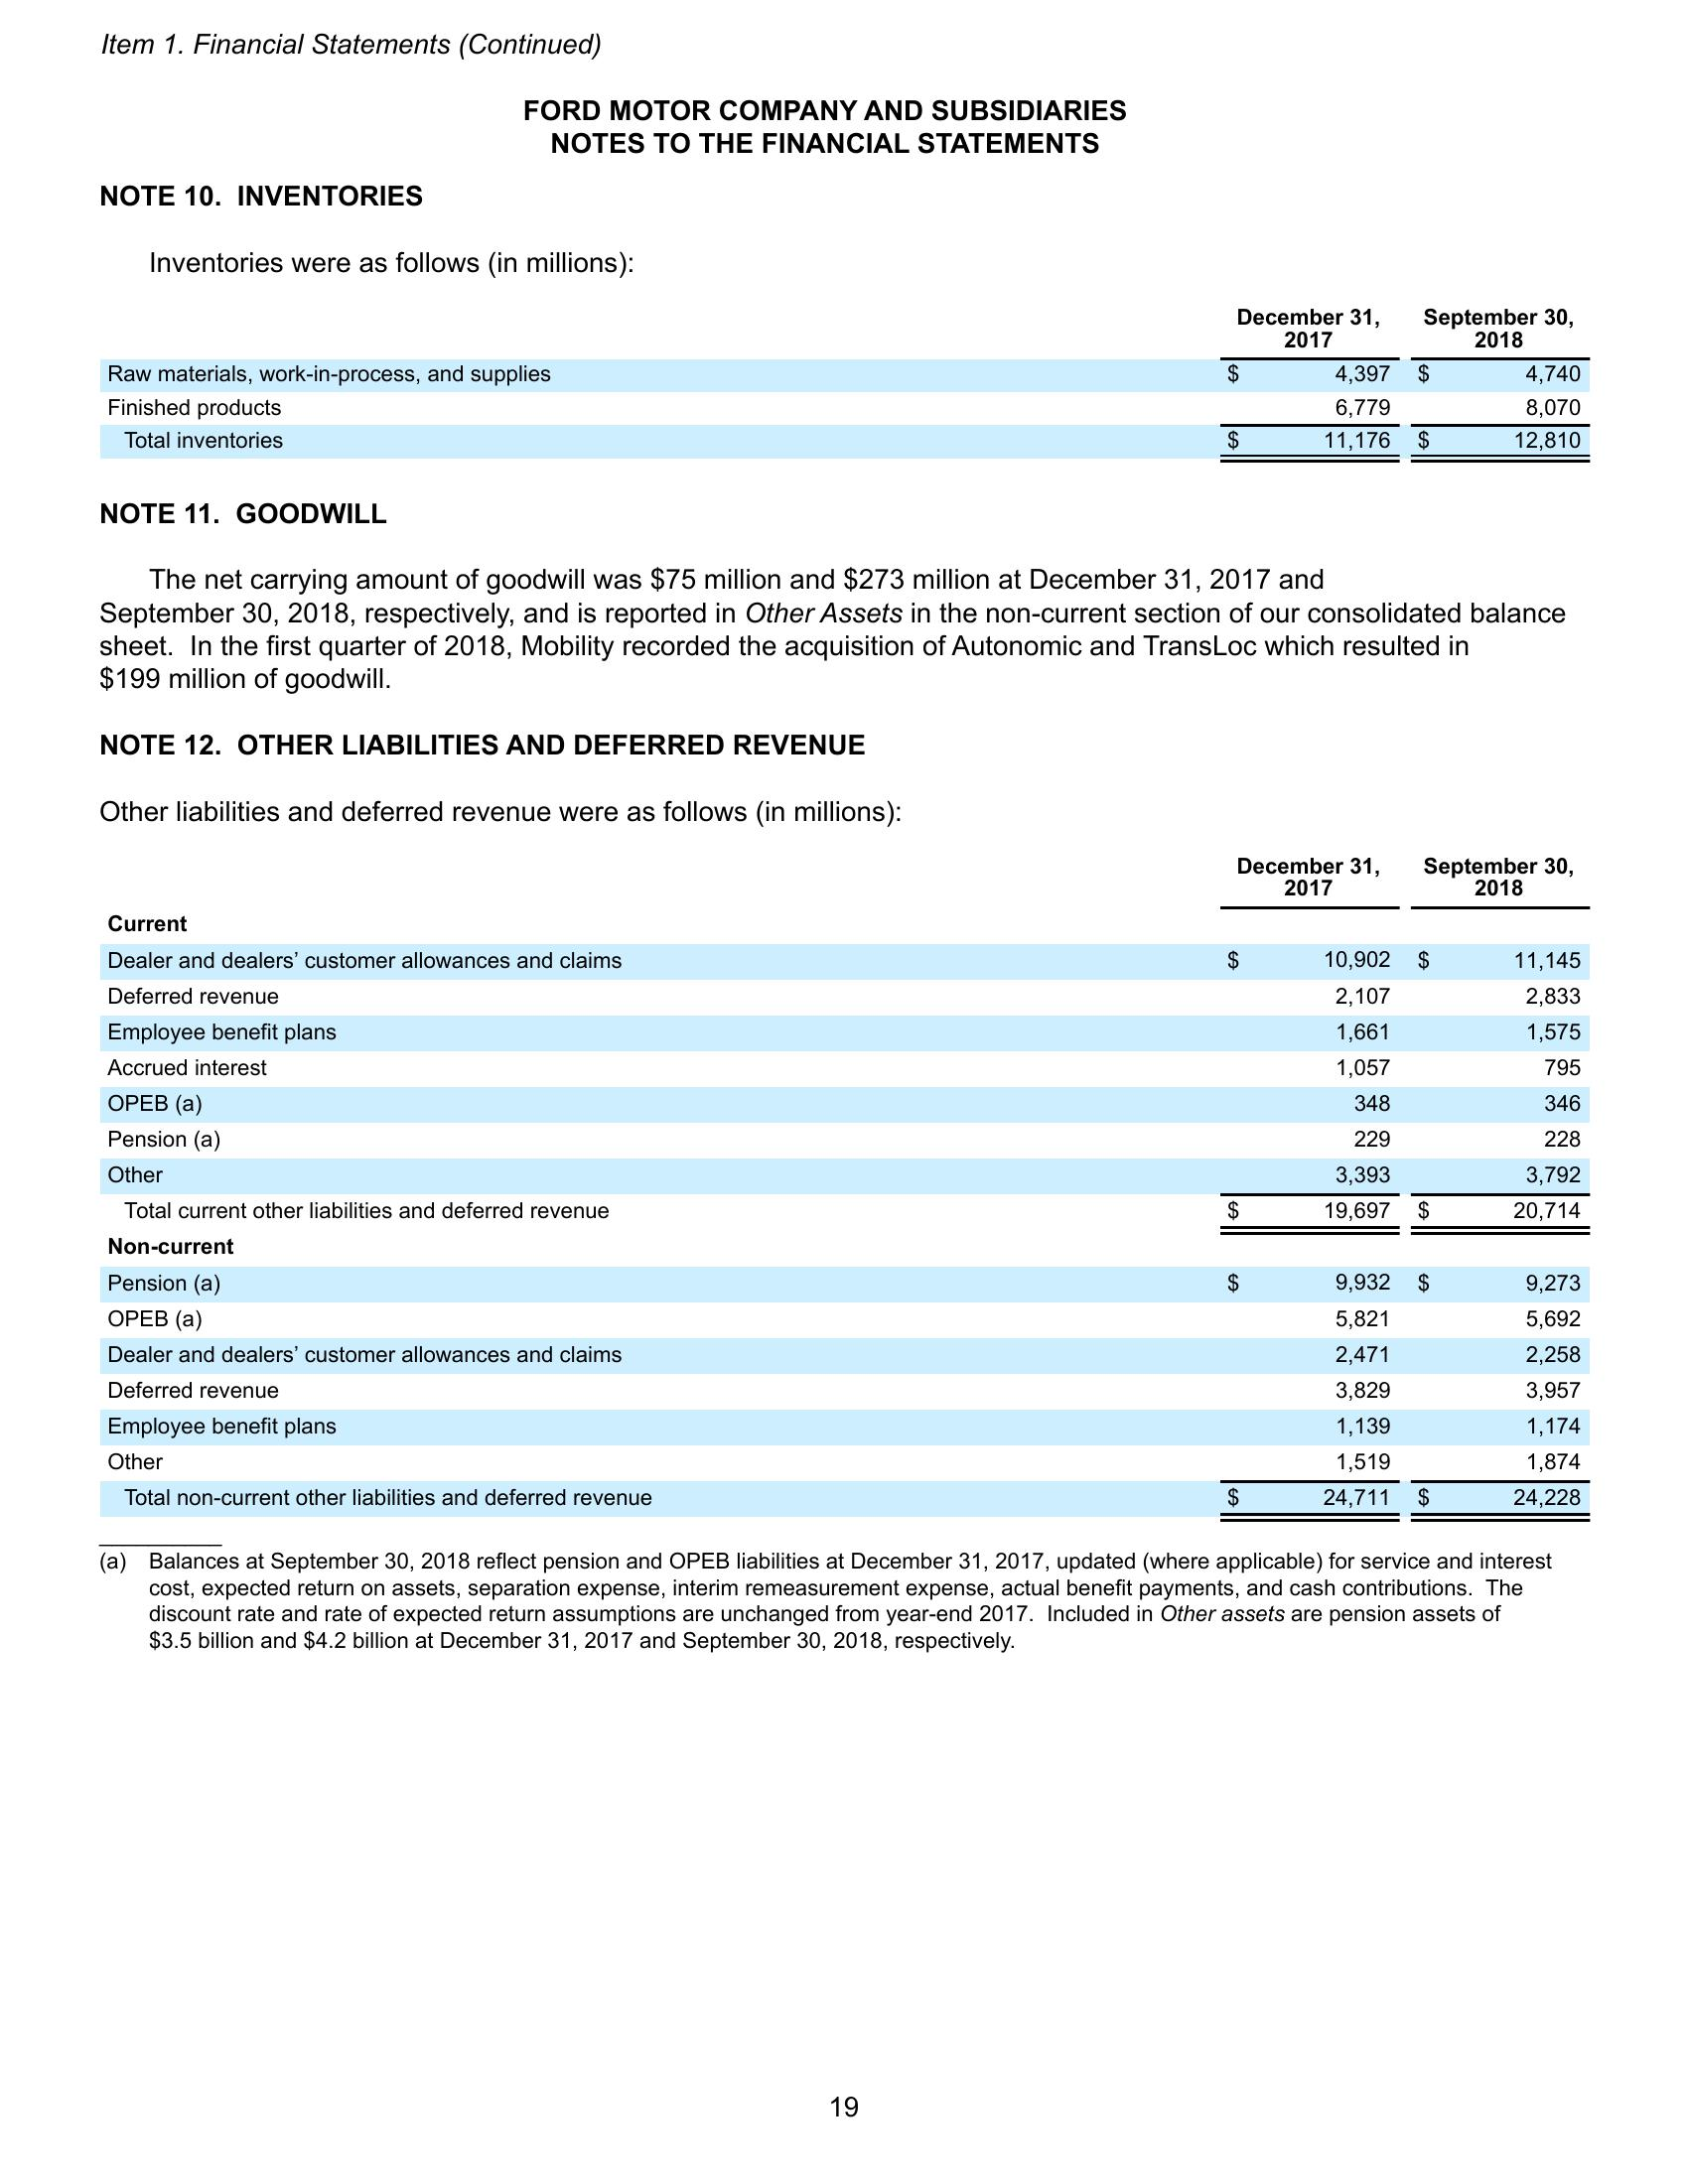table: (94, 851, 1601, 1525), (92, 300, 1601, 468)
